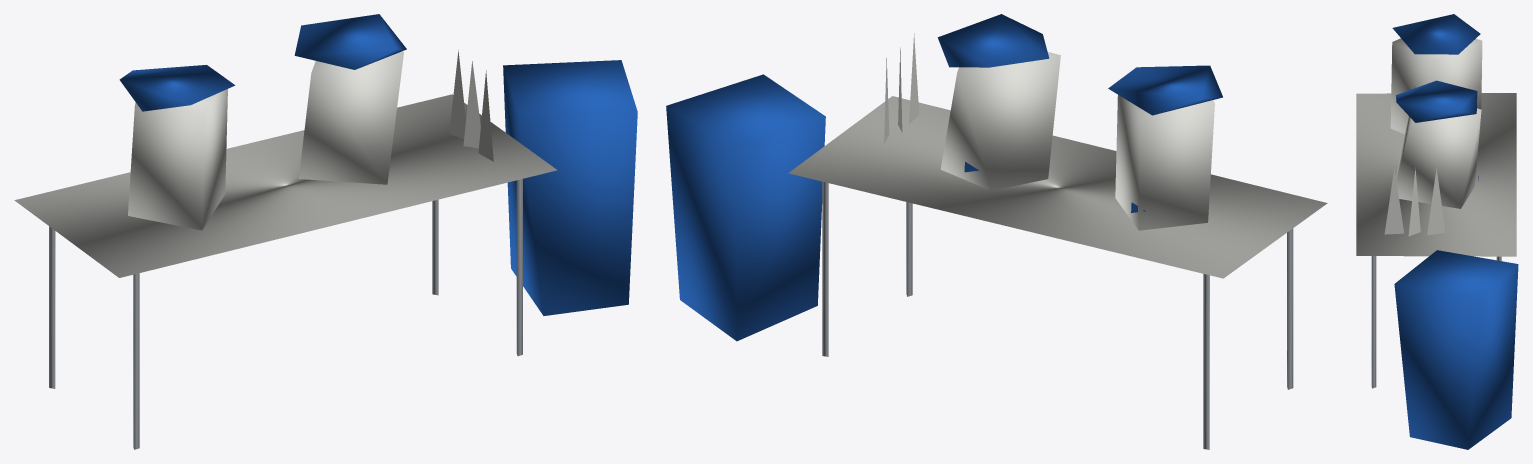
Rendered from cooler_station_lod2.glb.
3 views of the same model, side by side, from view 1: azimuth 30°, elevation 25°; view 2: azimuth 150°, elevation 25°; view 3: azimuth 270°, elevation 25° (orthographic). The views are drawn at different scales.
Visible parts, largest first — view 1: cooler_station__prop_white, cooler_station__prop_blue, cooler_station__prop_steel; view 2: cooler_station__prop_white, cooler_station__prop_blue, cooler_station__prop_steel; view 3: cooler_station__prop_white, cooler_station__prop_blue, cooler_station__prop_steel.
Boxes of the visible parts, x1,y1,x2,y2 form: cooler_station__prop_white: (14,50,557,277); cooler_station__prop_blue: (119,14,637,315); cooler_station__prop_steel: (49,179,522,449); cooler_station__prop_white: (788,33,1327,278); cooler_station__prop_blue: (666,14,1222,341); cooler_station__prop_steel: (822,181,1293,449); cooler_station__prop_white: (1356,38,1516,256); cooler_station__prop_blue: (1392,14,1518,449); cooler_station__prop_steel: (1371,256,1501,388).
Size of the model in its own units: 2.44 by 1.28 by 0.7686.
